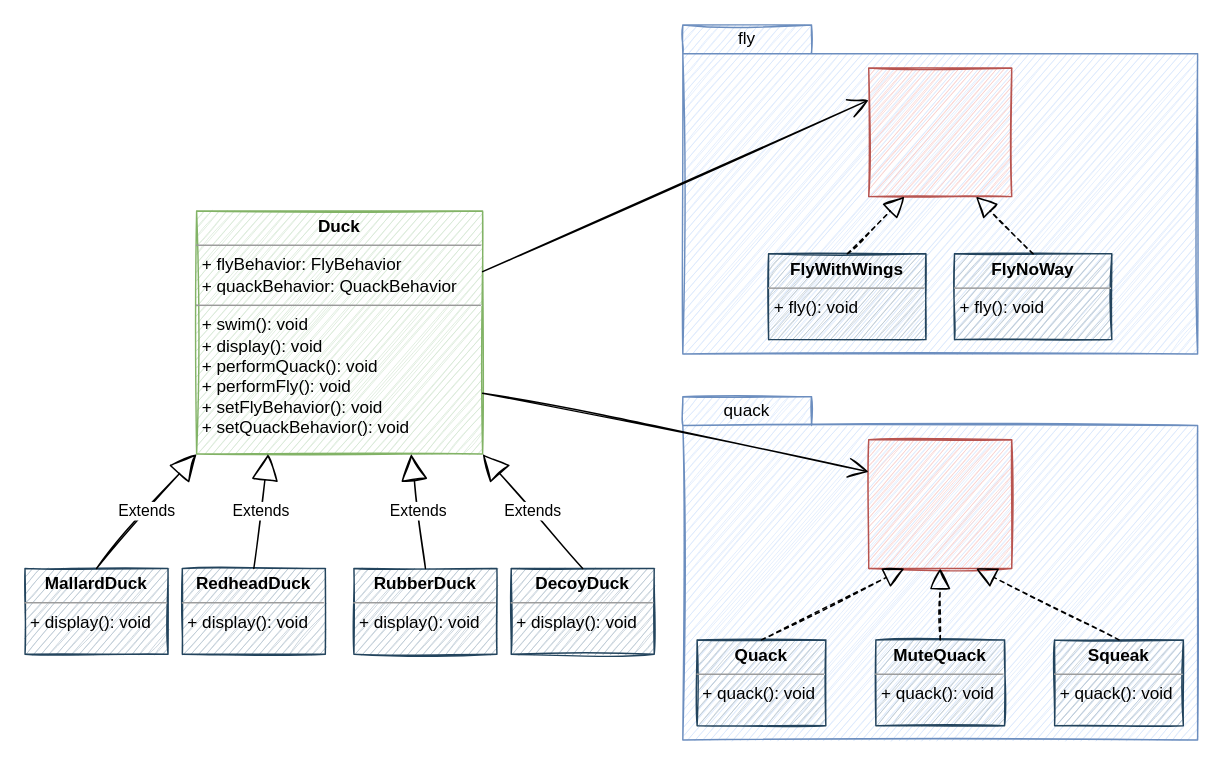
Image size: 1223x765. Some labels were removed from this diagram. The shapes that lost their labels are listed below. From the top down, each one's centre as x and y in pixels, then its label:
At pixel 939 131: "<<Interface>> FlyBehavior + fly():void".
At pixel 939 503: "<<Interface>> QuackBehavior + quack():void".
